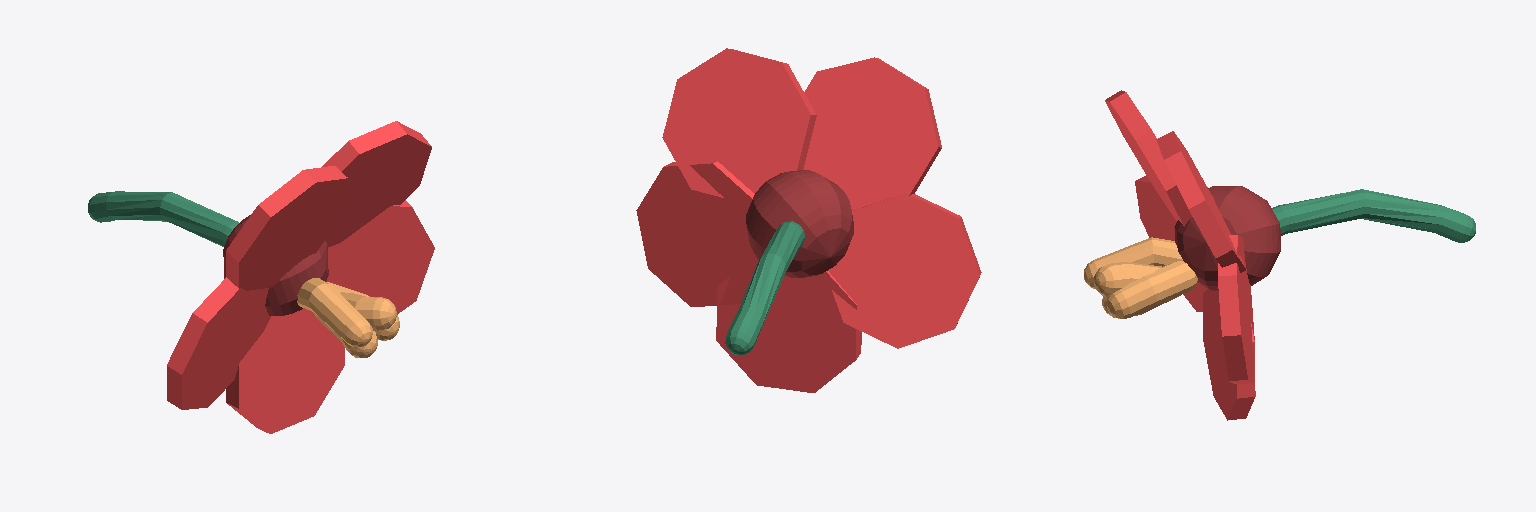
File: hibiscus.obj.obj
3 renders of one model, left to right at view 1: azimuth 30°, elevation 25°; view 2: azimuth 150°, elevation 25°; view 3: azimuth 270°, elevation 25°, orthographic.
Visible parts, largest first — view 1: s.0079, s.0076, s.0078, s.0080, s.0077, s.0065, s.0067, s.0064, s.0069; view 2: s.0078, s.0077, s.0076, s.0080, s.0079, s.0064, s.0065; view 3: s.0065, s.0064, s.0080, s.0077, s.0076, s.0079, s.0071, s.0078, s.0067, s.0069.
Boxes of the visible parts, x1,y1,x2,y2 form: s.0079: [226, 308, 344, 433]; s.0076: [226, 166, 347, 290]; s.0078: [167, 277, 270, 409]; s.0080: [326, 200, 434, 314]; s.0077: [322, 121, 431, 246]; s.0065: [88, 191, 238, 246]; s.0067: [297, 278, 372, 346]; s.0064: [223, 215, 328, 315]; s.0069: [340, 292, 396, 330]; s.0078: [828, 193, 981, 348]; s.0077: [662, 48, 816, 197]; s.0076: [803, 57, 941, 210]; s.0080: [636, 161, 758, 306]; s.0079: [716, 271, 861, 392]; s.0064: [746, 170, 853, 277]; s.0065: [725, 221, 804, 355]; s.0065: [1272, 189, 1475, 242]; s.0064: [1174, 186, 1280, 290]; s.0080: [1218, 235, 1254, 383]; s.0077: [1156, 131, 1246, 272]; s.0076: [1105, 90, 1191, 226]; s.0079: [1203, 289, 1255, 420]; s.0071: [1107, 261, 1197, 318]; s.0078: [1135, 175, 1207, 311]; s.0067: [1084, 237, 1182, 288]; s.0069: [1094, 262, 1173, 300].
Size of the model in its own units: 20.01 by 18.95 by 22.54.